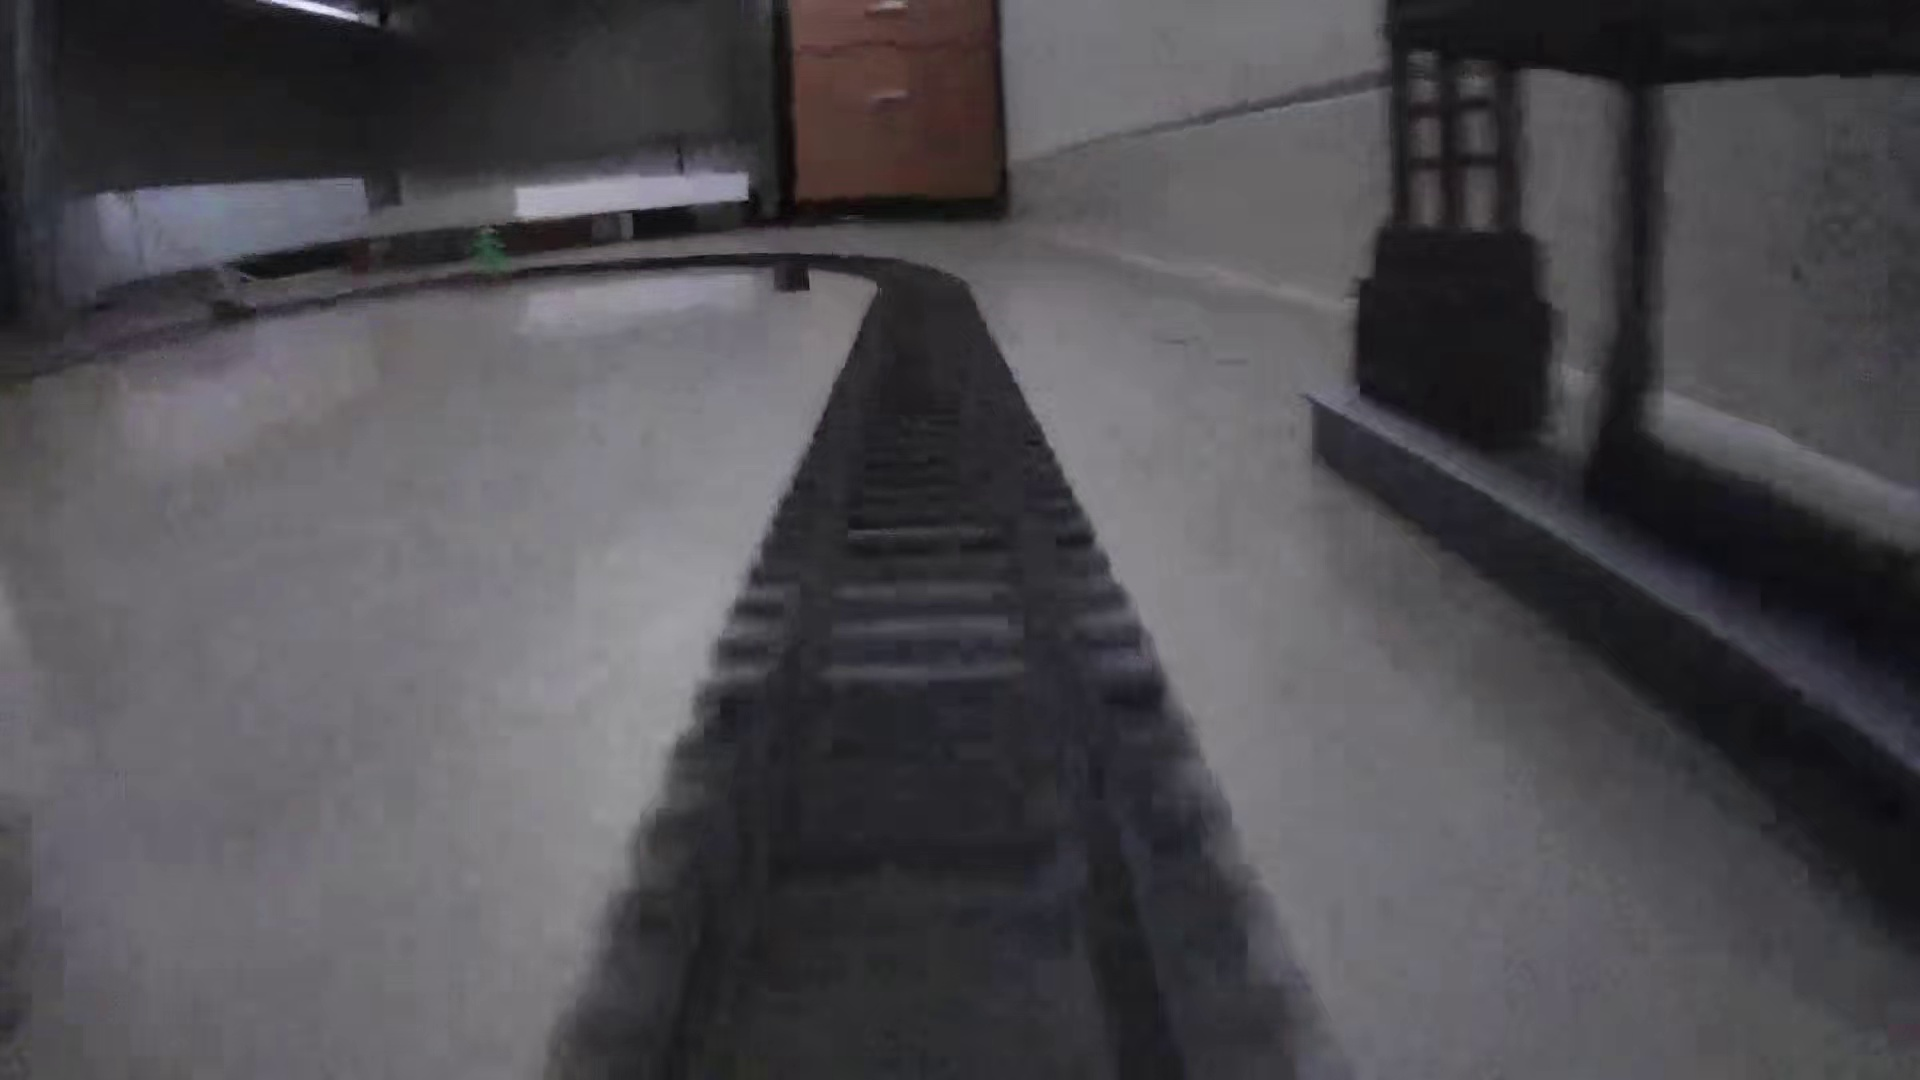box: (765, 251, 814, 294)
tree: (465, 215, 516, 289)
